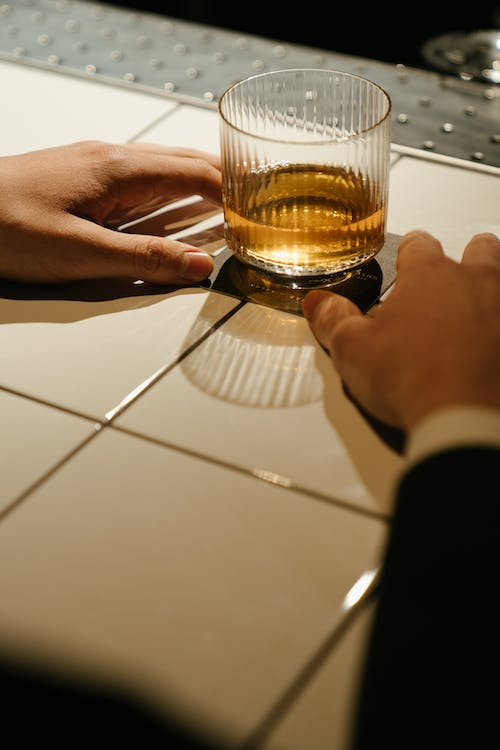alcohol: (216, 66, 389, 289)
